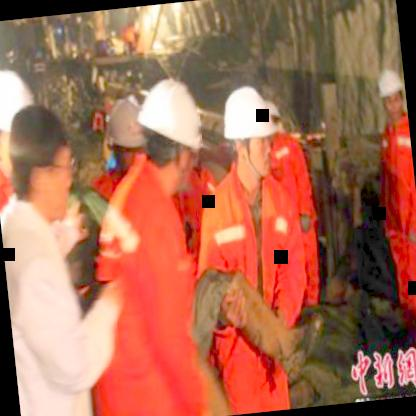head: (0, 100, 81, 223)
helmet: (132, 77, 203, 190), (218, 80, 282, 180), (102, 96, 156, 190), (0, 60, 45, 172), (377, 62, 406, 117)
